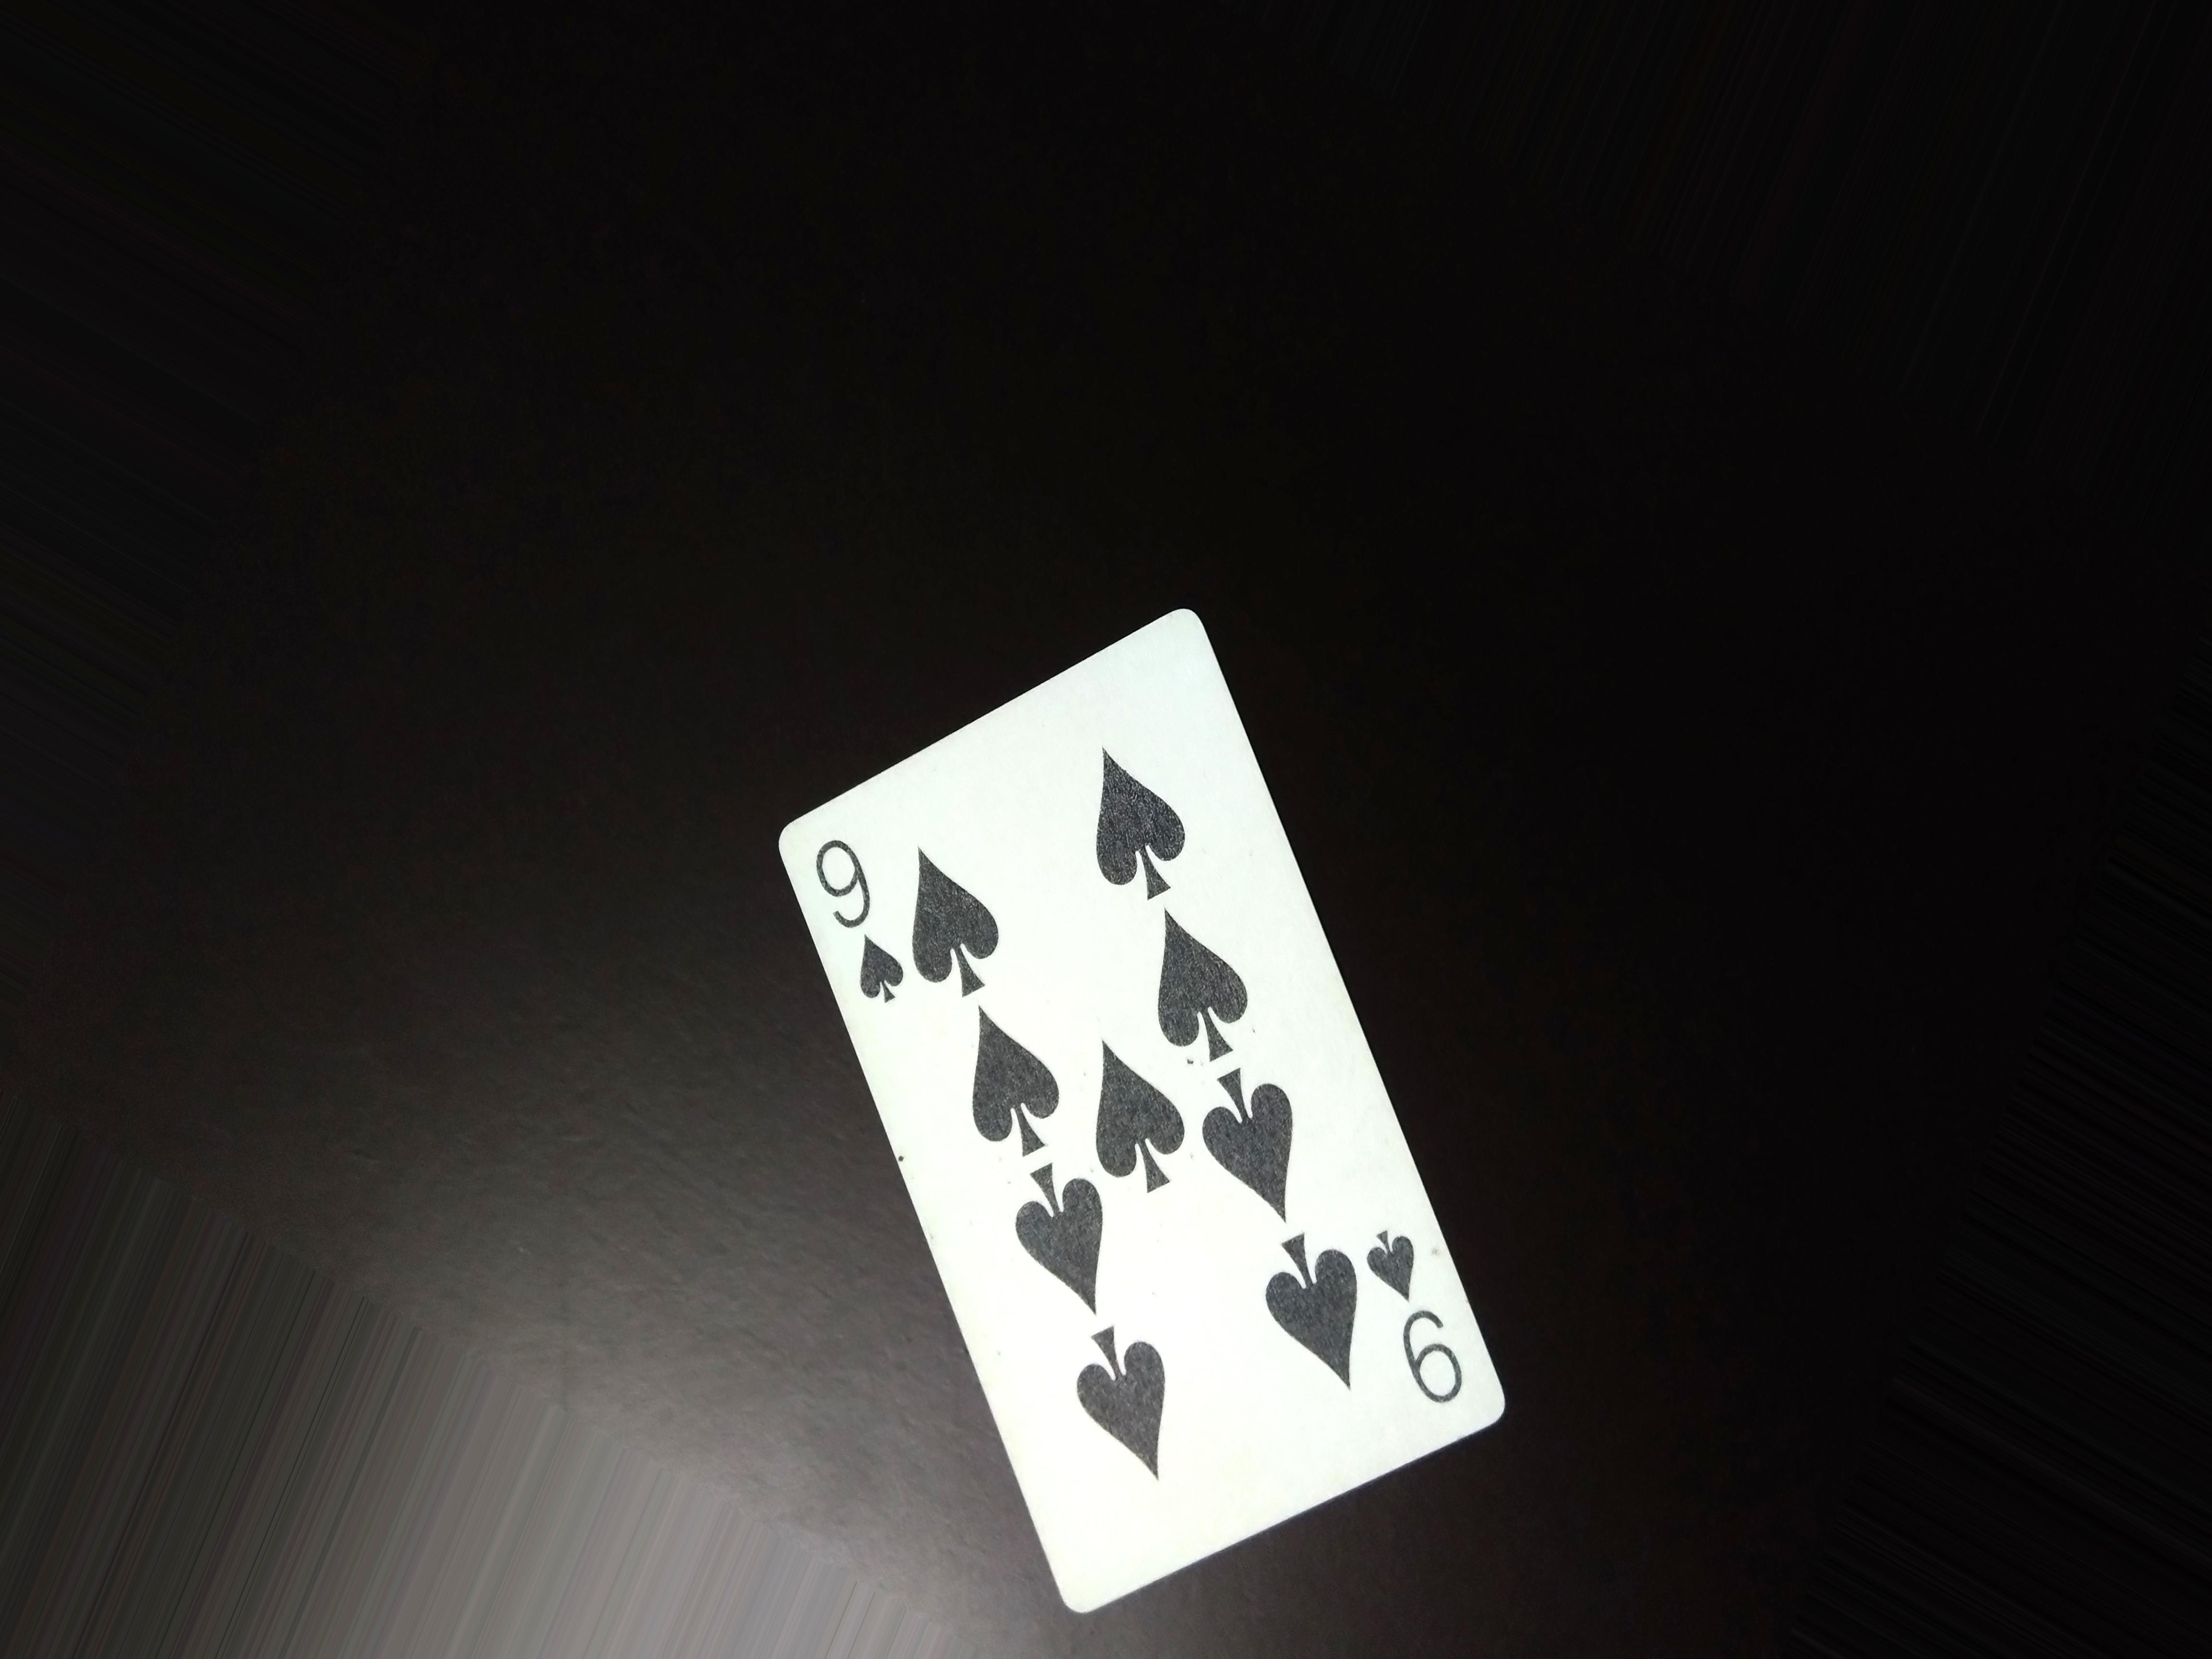9S: (791, 829, 939, 995)
